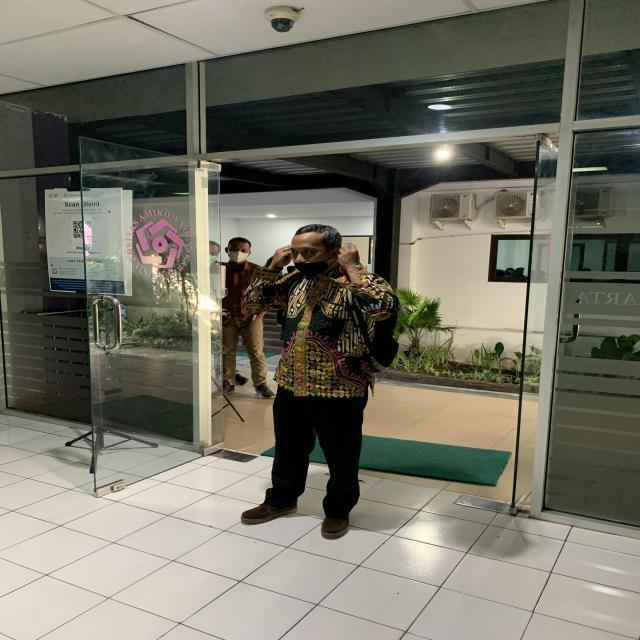hairnet: (274, 218, 353, 276)
